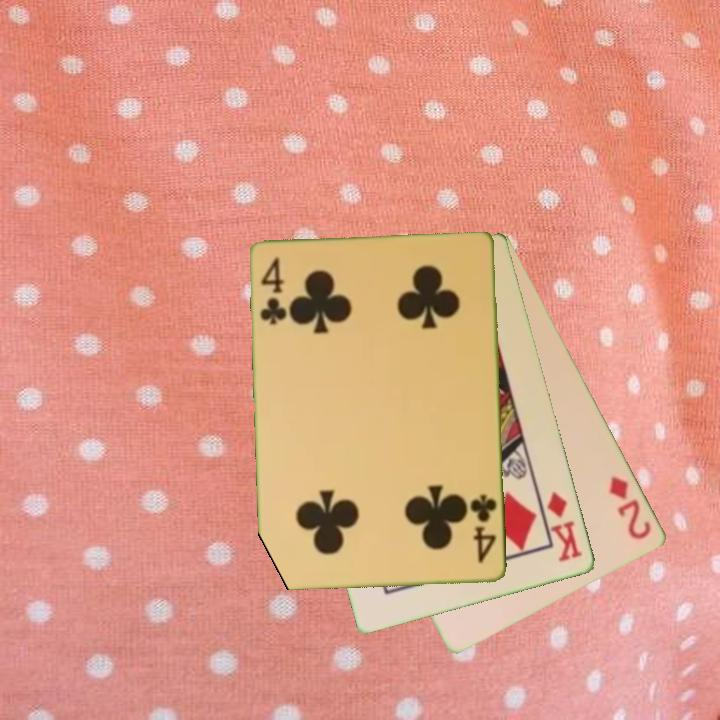2d: (606, 472, 655, 543)
4c: (467, 491, 500, 566), (257, 254, 289, 328)
Kd: (544, 487, 586, 566)
